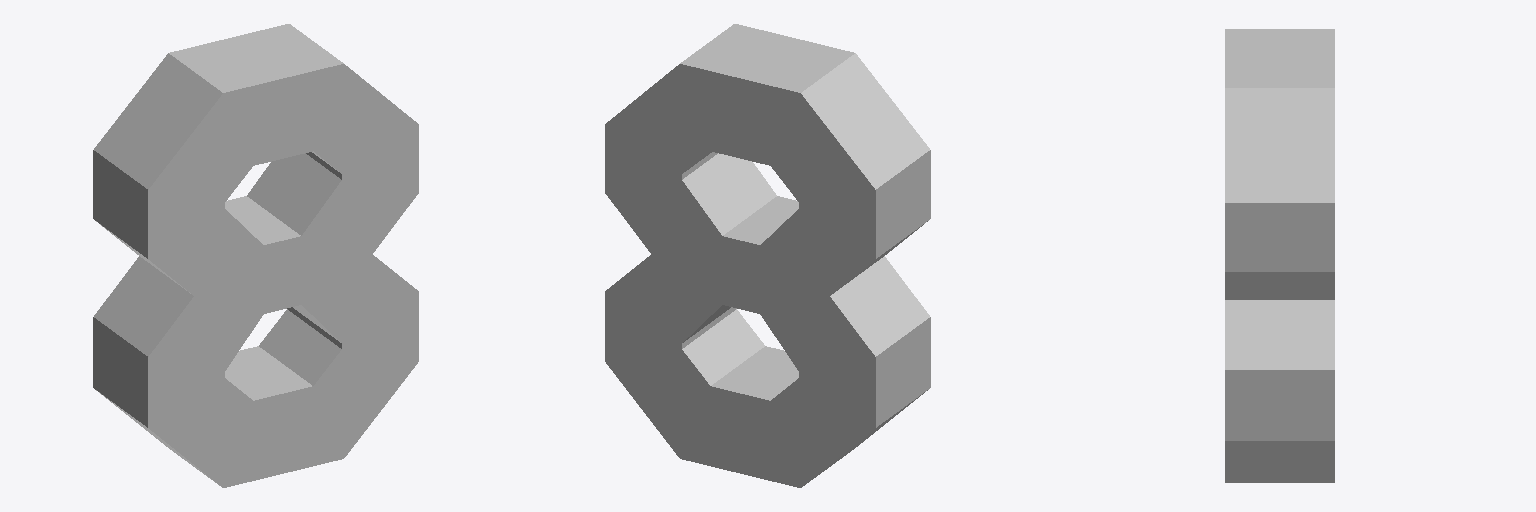
The picture shows the model from 3 angles: view 1: azimuth 30°, elevation 25°; view 2: azimuth 150°, elevation 25°; view 3: azimuth 270°, elevation 25°; orthographic projection.
Parts seen in each view (by area): view 1: text: ABCDEFGHIJKLMNOPQRSTUVWXYZ[number redacted]; view 2: text: ABCDEFGHIJKLMNOPQRSTUVWXYZ[number redacted]; view 3: text: ABCDEFGHIJKLMNOPQRSTUVWXYZ[number redacted].
Boxes of the visible parts, box(x1,y1,x2,y2) form: text: ABCDEFGHIJKLMNOPQRSTUVWXYZ[number redacted]: box(93, 24, 418, 487); text: ABCDEFGHIJKLMNOPQRSTUVWXYZ[number redacted]: box(605, 24, 930, 487); text: ABCDEFGHIJKLMNOPQRSTUVWXYZ[number redacted]: box(1225, 29, 1334, 482).
Size of the model in its own units: 71.06 by 99.29 by 25.